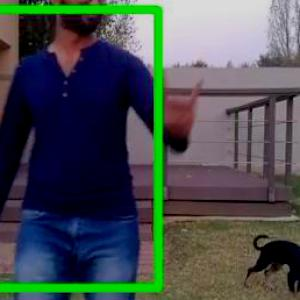takeoff-hand: (152, 73, 206, 149)
